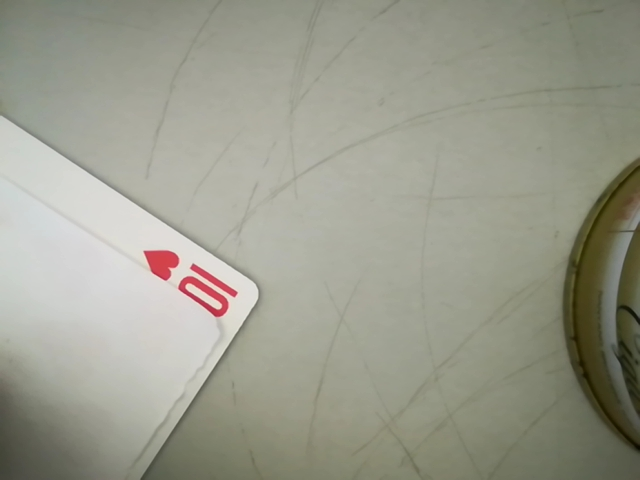hx 10: (143, 247, 249, 326)
